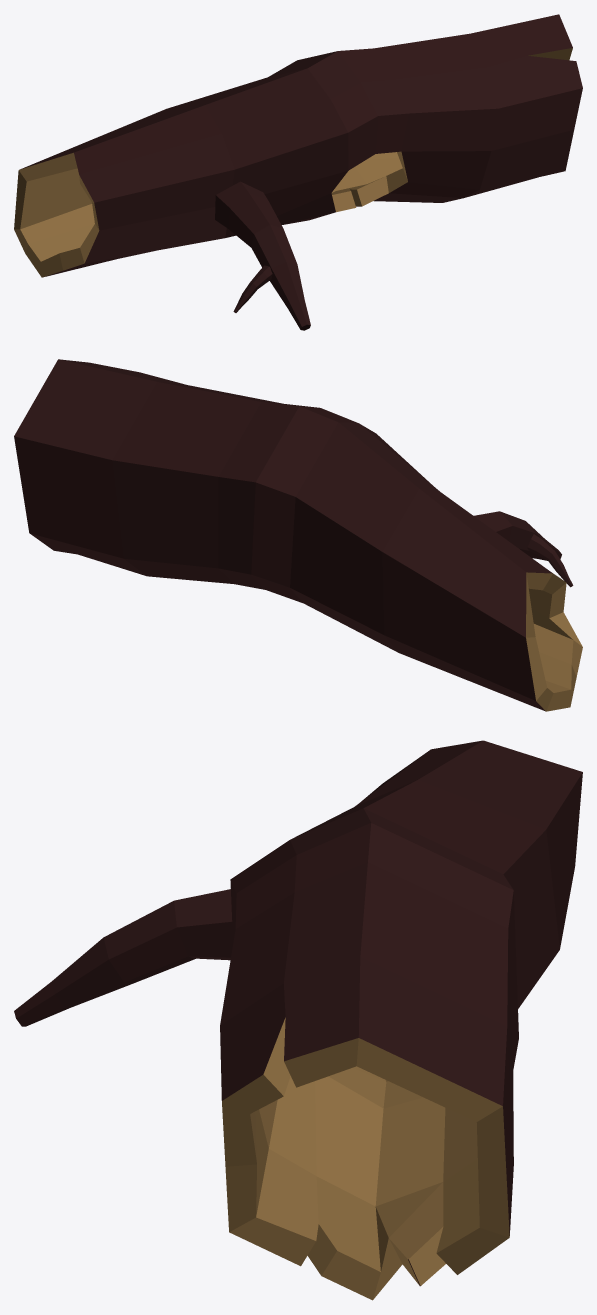
File: TreeLog(2).fbx
3 renders of one model, top to bottom at view 1: azimuth 30°, elevation 25°; view 2: azimuth 150°, elevation 25°; view 3: azimuth 270°, elevation 25°, orthographic. The views are drawn at different scales.
Parts seen in each view (by area): view 1: TreeLog(2); view 2: TreeLog(2); view 3: TreeLog(2).
Boxes of the visible parts, left/top/right/bottom form: TreeLog(2): left=14, top=14, right=582, bottom=330; TreeLog(2): left=14, top=359, right=582, bottom=711; TreeLog(2): left=14, top=740, right=582, bottom=1300.
Bounding box in the file's own units: 3.33 × 1.19 × 1.88.
